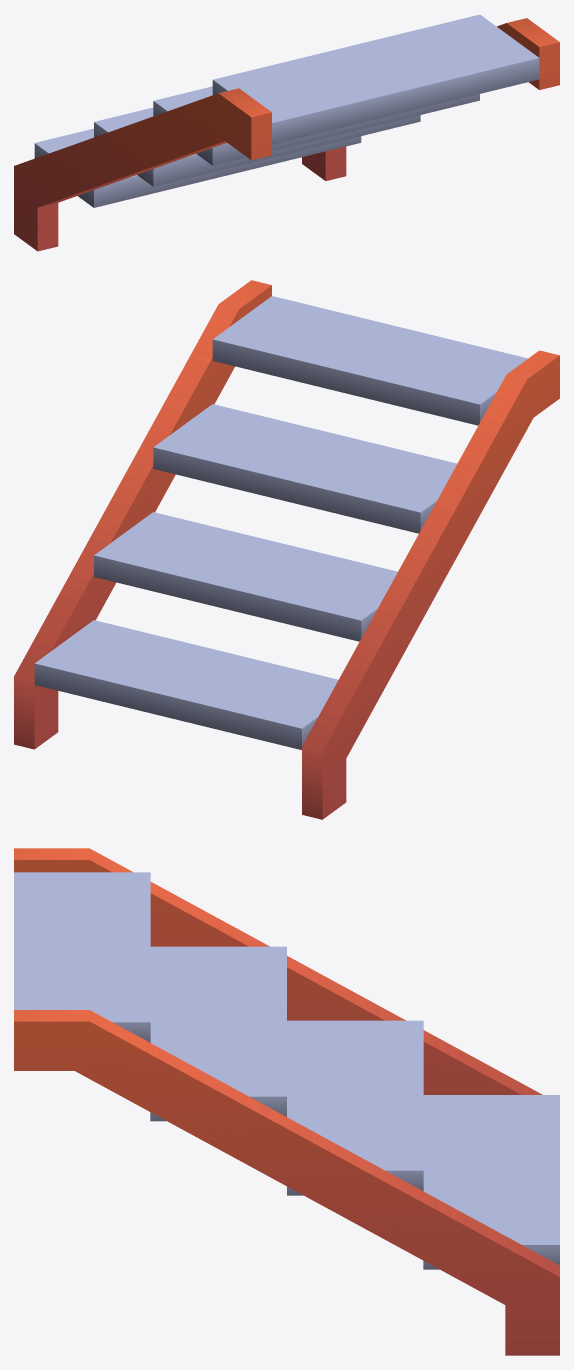
File: stairs_sides_short.glb
3 views of the same model, one above another, from view 1: azimuth 30°, elevation 25°; view 2: azimuth 150°, elevation 25°; view 3: azimuth 270°, elevation 25° (orthographic). The views are drawn at different scales.
Visible parts, largest first — view 1: stairs-sides-short, Group (×2); view 2: stairs-sides-short, Group (×2); view 3: stairs-sides-short, Group (×2).
Boxes of the visible parts, box(x1,y1,x2,y2) form: stairs-sides-short: box(34, 14, 539, 207); Group (×2): box(14, 18, 559, 251); stairs-sides-short: box(34, 296, 527, 749); Group (×2): box(14, 280, 559, 819); stairs-sides-short: box(14, 872, 559, 1269); Group (×2): box(14, 848, 559, 1355).
Bounding box in the file's own units: 1.5 × 1.35 × 2.
1 material, 1 textured.
